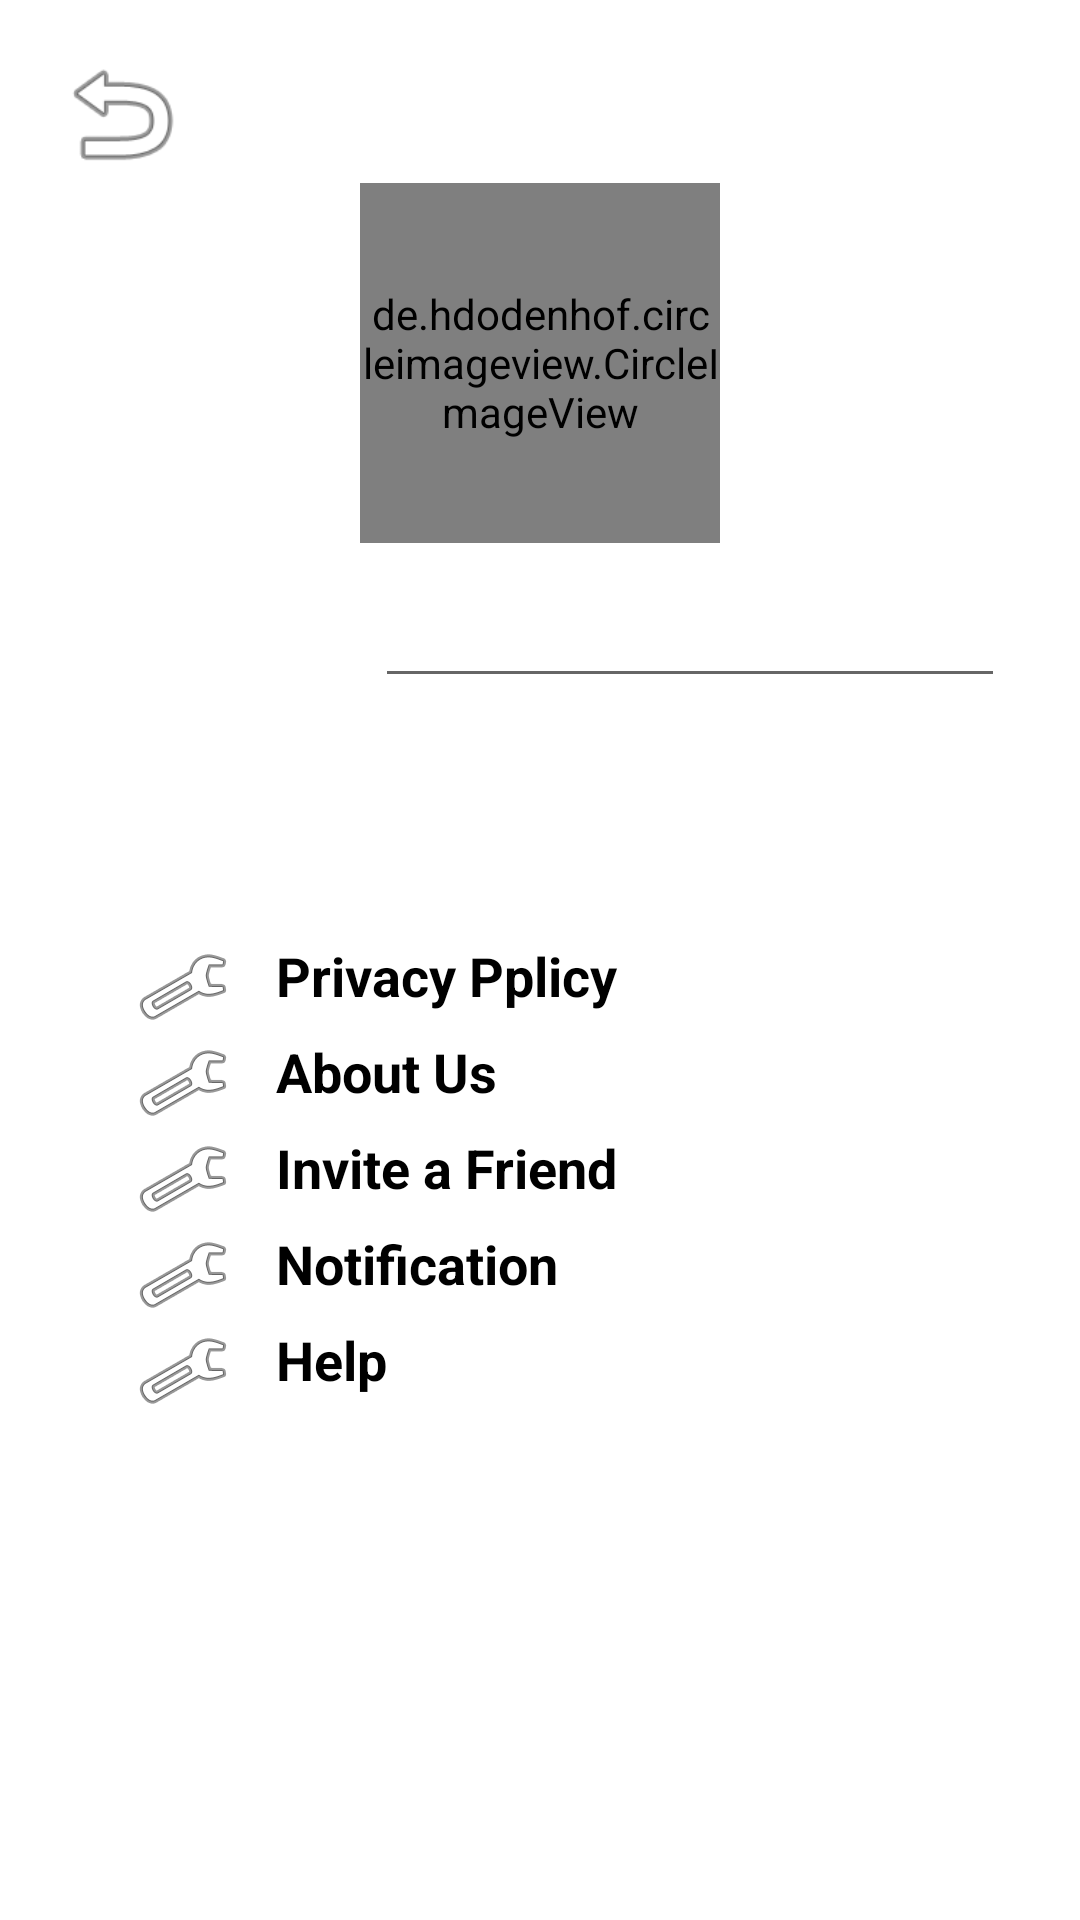

Icons on this 1080w x 1920h Android screen, each with its box as (x1, y1, x2, y2):
revert: (73, 70, 173, 160)
